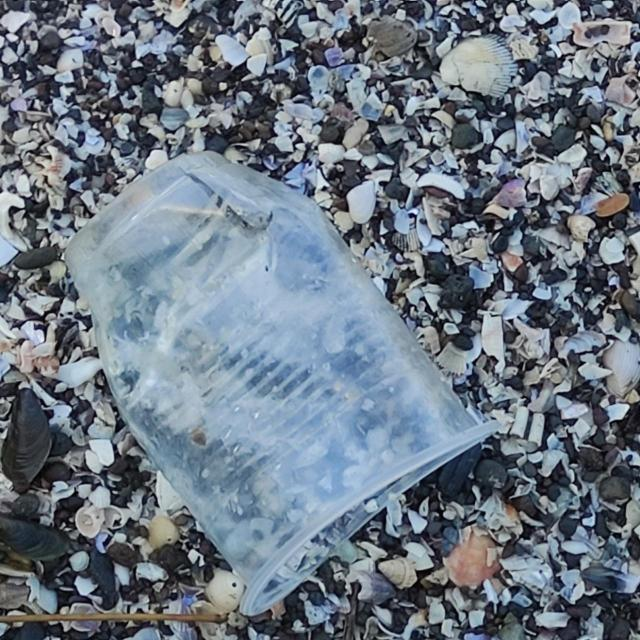plastic_waste: (63, 150, 505, 621)
